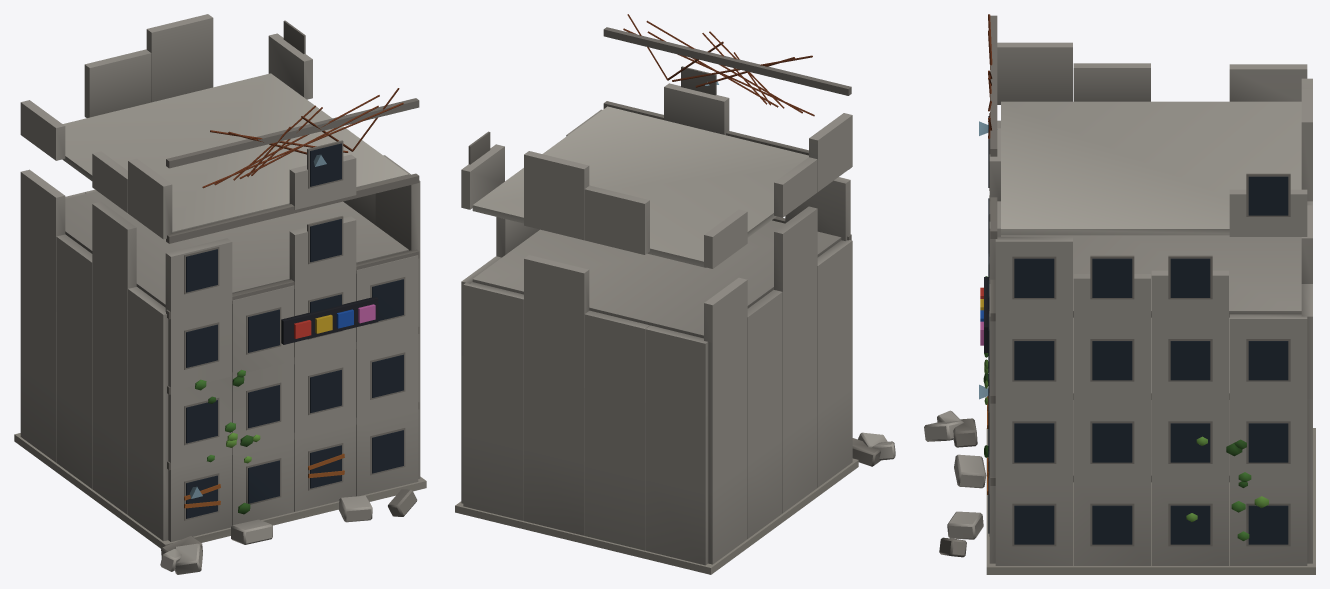
File: p_st_hochhaus_1.glb
3 views of the same model, side by side, from view 1: azimuth 30°, elevation 25°; view 2: azimuth 150°, elevation 25°; view 3: azimuth 270°, elevation 25° (orthographic). The views are drawn at different scales.
Parts seen in each view (by area): view 1: body; view 2: body; view 3: body.
Part boxes in pixels (bbox=[...]): body: bbox=[14, 14, 426, 574]; body: bbox=[455, 14, 895, 574]; body: bbox=[924, 14, 1315, 574].
Bounding box in the file's own units: 12.64 × 17.63 × 13.81.
